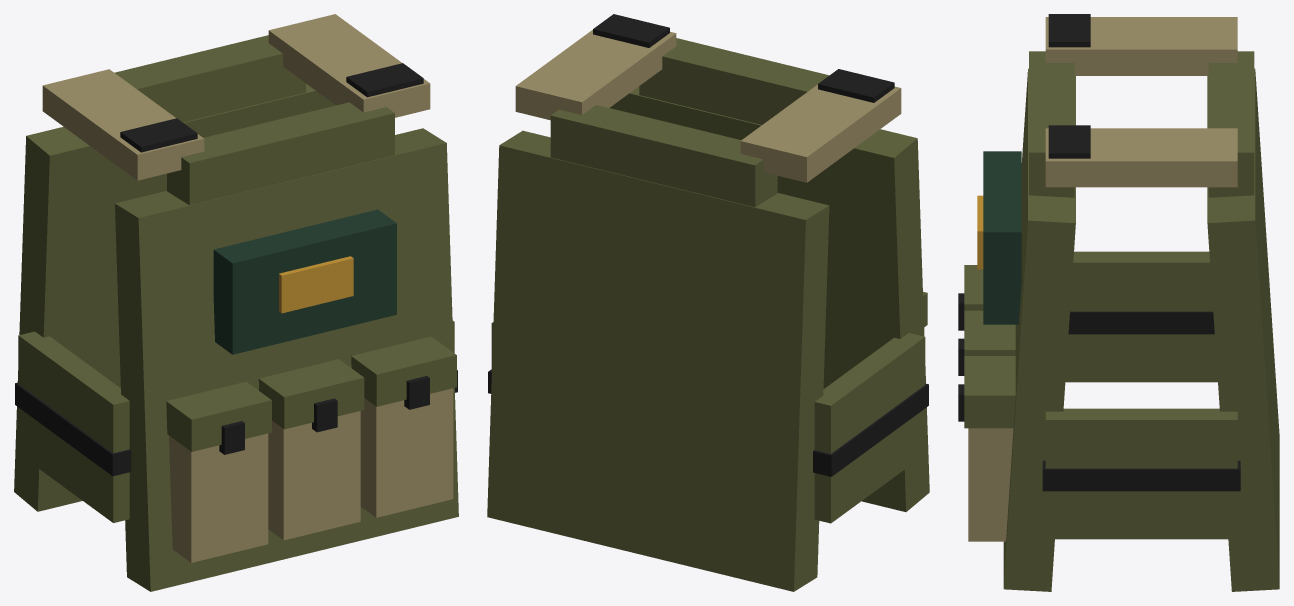
File: body_armor.glb
3 views of the same model, side by side, from view 1: azimuth 30°, elevation 25°; view 2: azimuth 150°, elevation 25°; view 3: azimuth 270°, elevation 25° (orthographic).
Visible parts, largest first — view 1: body_armor; view 2: body_armor; view 3: body_armor.
Boxes of the visible parts, box(x1,y1,x2,y2) form: body_armor: box(14, 14, 458, 591); body_armor: box(487, 14, 929, 591); body_armor: box(958, 14, 1279, 591).
Size of the model in its own units: 0.336 by 0.3979 by 0.2682.
Materials: 2 (2 with a texture image).
